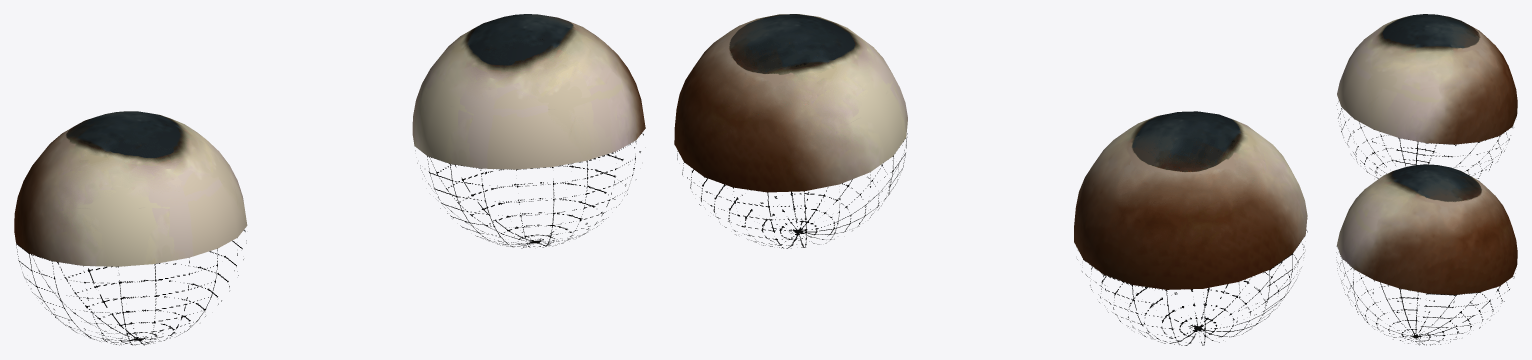
The model's file is eye.obj.
3 renders of one model, left to right at view 1: azimuth 30°, elevation 25°; view 2: azimuth 150°, elevation 25°; view 3: azimuth 270°, elevation 25°, orthographic. The views are drawn at different scales.
Parts seen in each view (by area): view 1: Eyes_Mesh.002; view 2: Eyes_Mesh.002; view 3: Eyes_Mesh.002.
Part boxes in pixels (x1,y1,x2,y2): Eyes_Mesh.002: [14, 14, 645, 345]; Eyes_Mesh.002: [674, 14, 1307, 345]; Eyes_Mesh.002: [1336, 14, 1517, 345].
Bounding box in the file's own units: 0.6061 × 0.2048 × 0.2048.
Materials: 1 (1 with a texture image).
